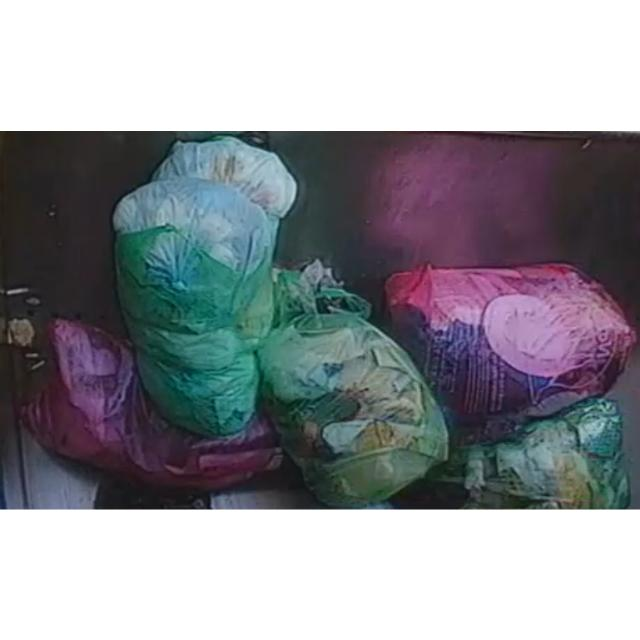general_trashbag: (112, 135, 298, 436), (260, 259, 448, 505), (464, 398, 630, 508)
other_trashbag: (21, 319, 281, 489), (385, 262, 635, 414)
